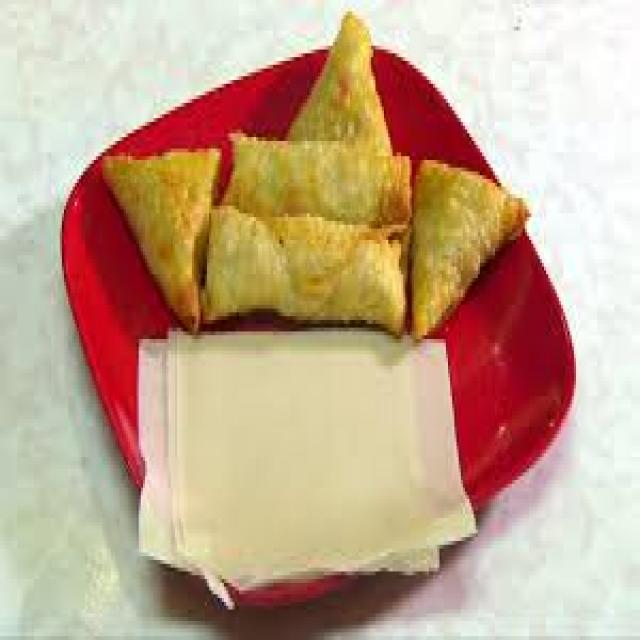Samosa: (96, 130, 211, 312), (412, 145, 529, 312), (296, 8, 382, 141)
Spring Rolls: (216, 125, 406, 328)
